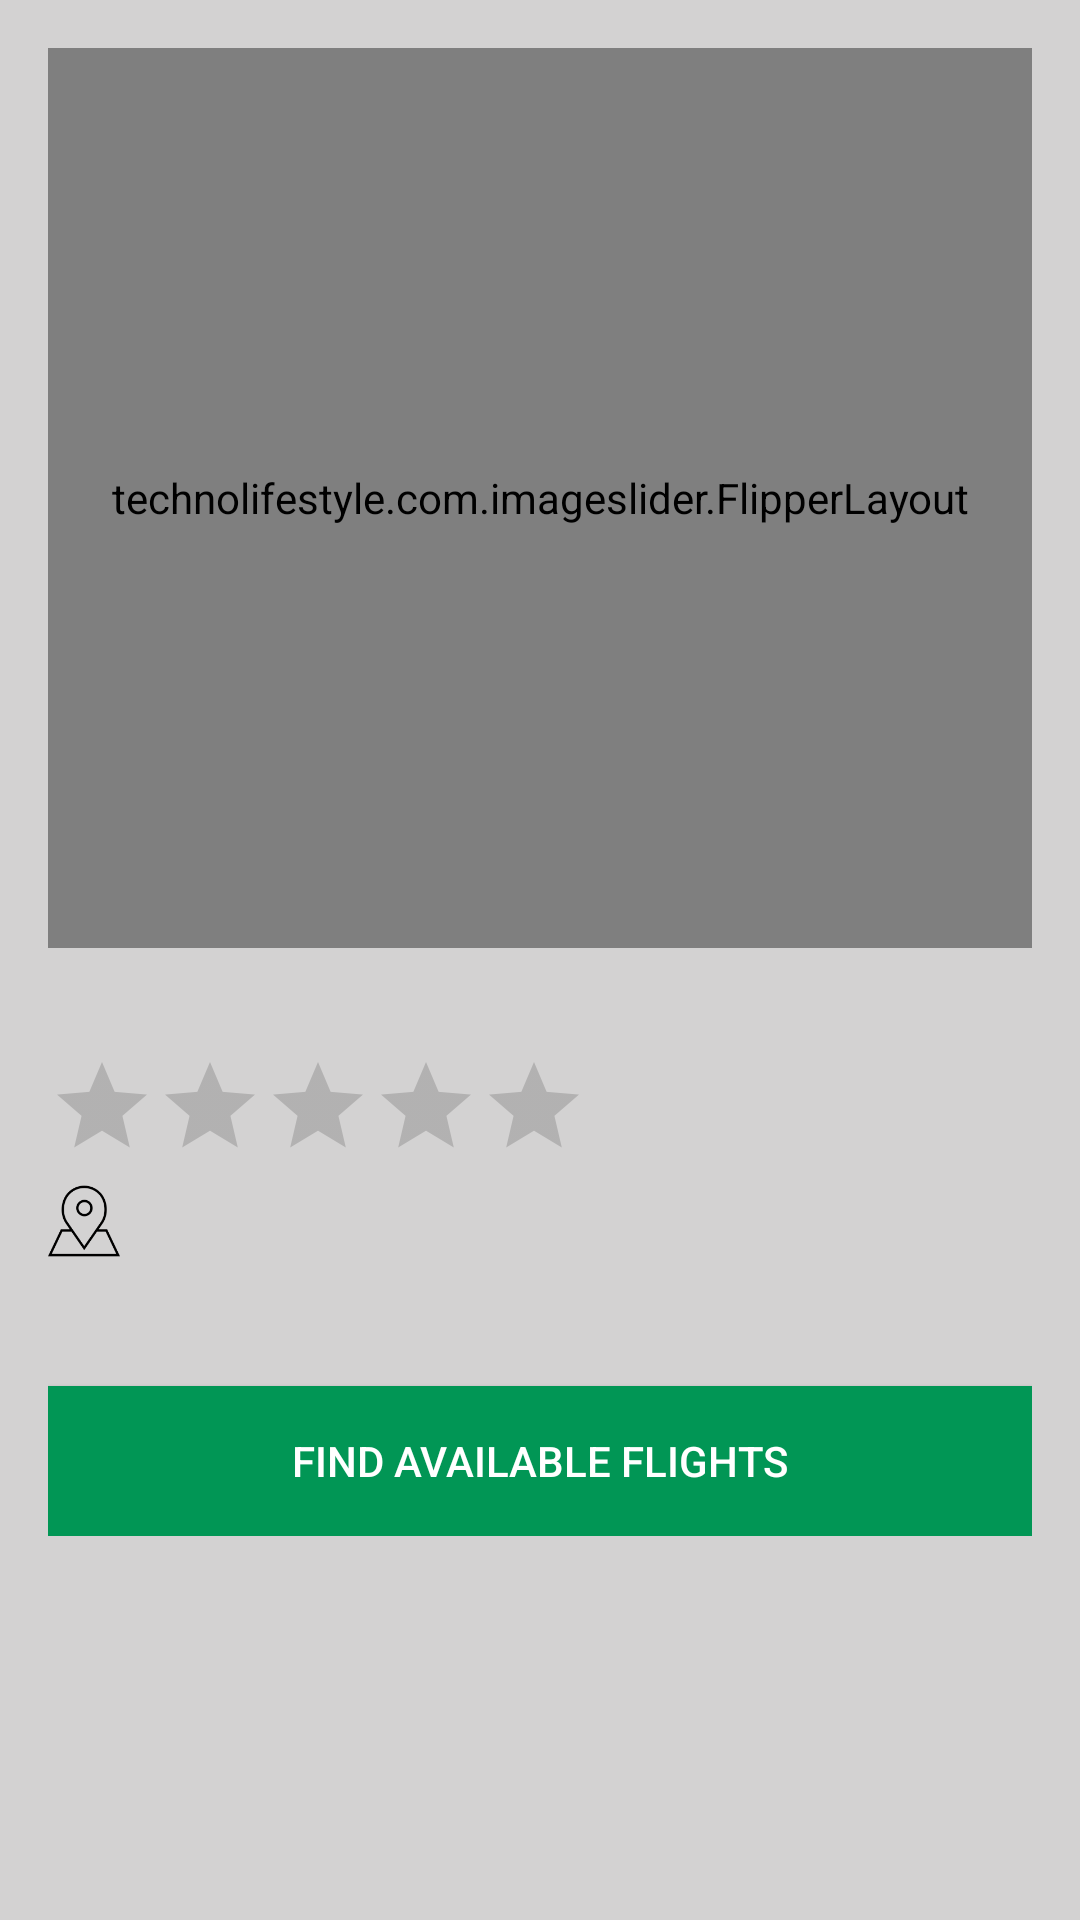

Icons on this 1080×1920 Android screen, each with the point to tap as (x=x, y=y):
pin: (x=84, y=1221)
